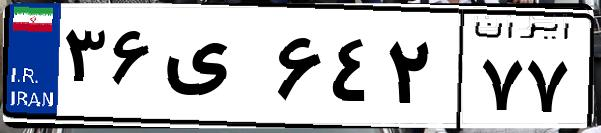2: (385, 28, 445, 110)
3: (57, 26, 110, 100)
4: (330, 28, 385, 110)
6: (270, 28, 330, 110), (110, 28, 158, 98)
7: (475, 38, 525, 113), (525, 38, 570, 115)
ی: (158, 20, 270, 120)
